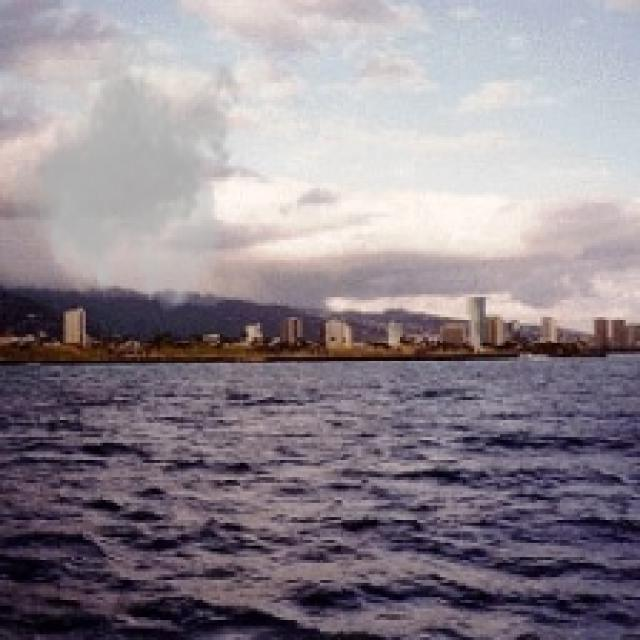Smoke: (2, 34, 248, 314)
